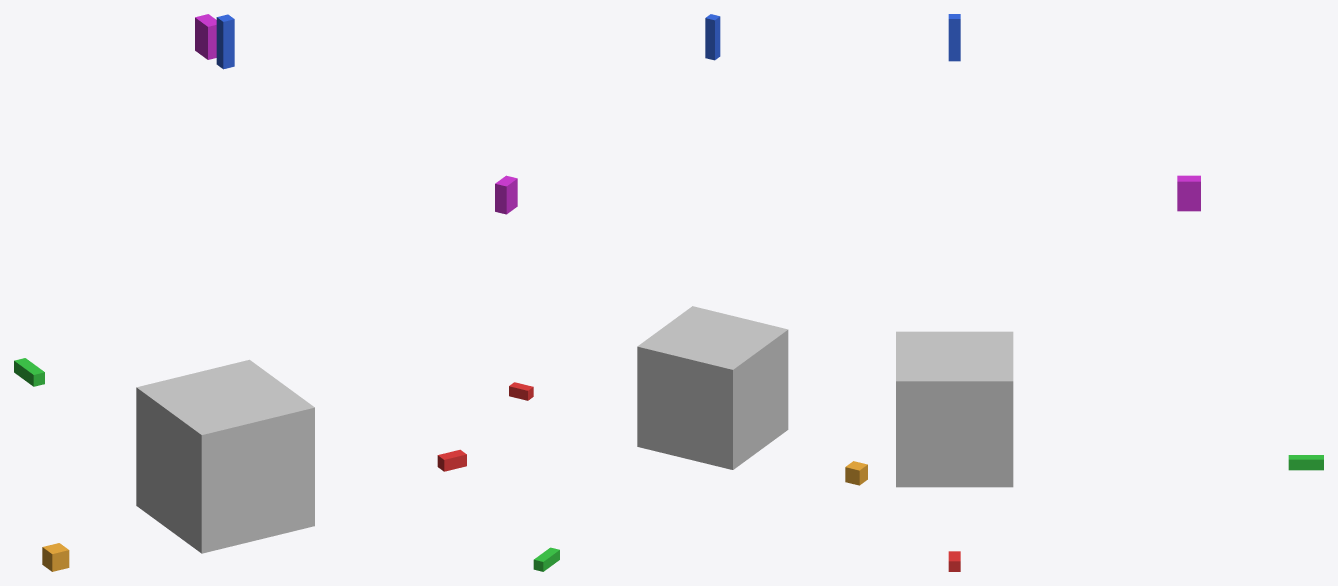
Rendered from calibration.fbx.
3 views of the same model, side by side, from view 1: azimuth 30°, elevation 25°; view 2: azimuth 150°, elevation 25°; view 3: azimuth 270°, elevation 25° (orthographic). The views are drawn at different scales.
Parts seen in each view (by area): view 1: Calibration_Cube_1m, Axis_PosZ_4m, Handedness_P123, Axis_NegX_1p5m, Axis_PosY_3m; view 2: Calibration_Cube_1m, Handedness_P123, Axis_PosZ_4m, Axis_NegX_1p5m; view 3: Calibration_Cube_1m, Handedness_P123, Axis_PosZ_4m, Axis_PosY_3m.
Part boxes in pixels (x1=…): Calibration_Cube_1m: x1=136, y1=359, x2=314, y2=553; Axis_PosZ_4m: x1=216, y1=14, x2=234, y2=69; Handedness_P123: x1=195, y1=14, x2=216, y2=59; Axis_NegX_1p5m: x1=42, y1=543, x2=69, y2=571; Axis_PosY_3m: x1=14, y1=358, x2=44, y2=386; Calibration_Cube_1m: x1=637, y1=306, x2=788, y2=469; Handedness_P123: x1=495, y1=175, x2=517, y2=214; Axis_PosZ_4m: x1=705, y1=14, x2=720, y2=60; Axis_NegX_1p5m: x1=845, y1=461, x2=867, y2=485; Calibration_Cube_1m: x1=896, y1=331, x2=1013, y2=487; Handedness_P123: x1=1177, y1=175, x2=1200, y2=211; Axis_PosZ_4m: x1=948, y1=14, x2=960, y2=61; Axis_PosY_3m: x1=1288, y1=455, x2=1323, y2=470.
Bounding box in the file's own units: 3.67 × 4.27 × 3.65.
